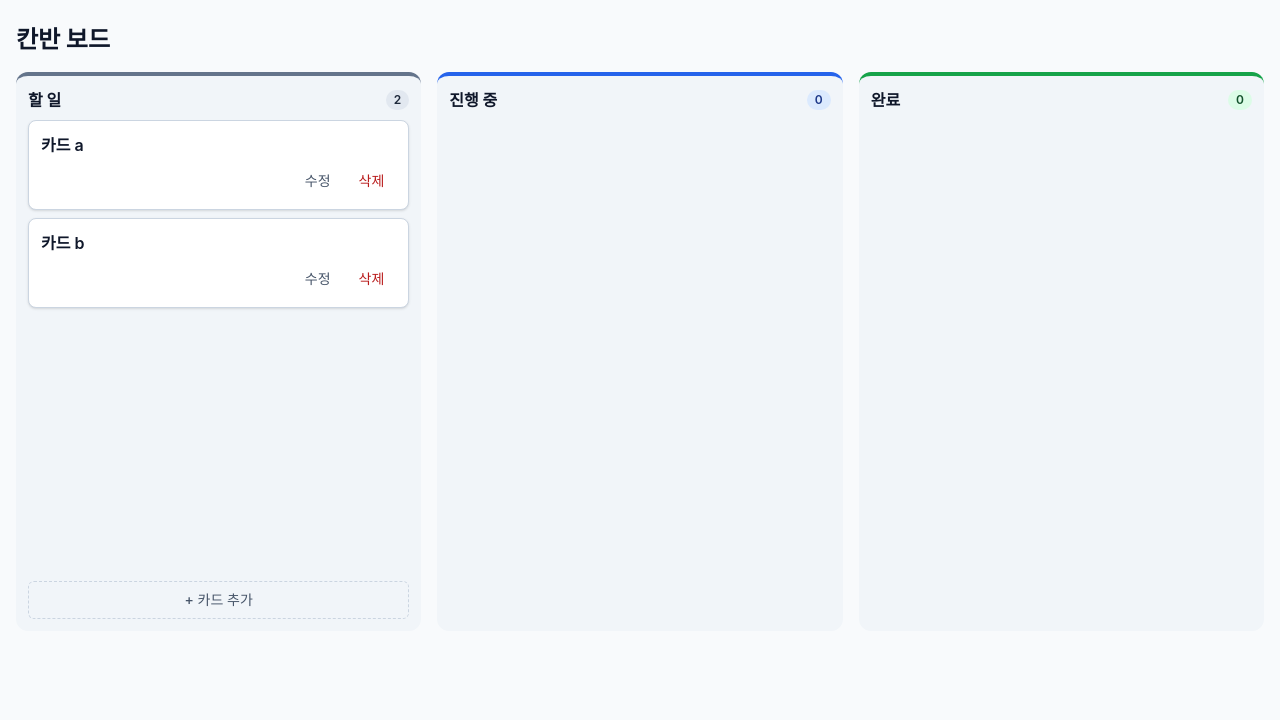
Test: 삭제 확인 (T-019) › 확인하면 카드를 지우고 카드 수가 1 줄어든다 (FR-8)
Click the button with aria-label "'카드 a' 삭제" at (372, 181), box [347,165,396,197]
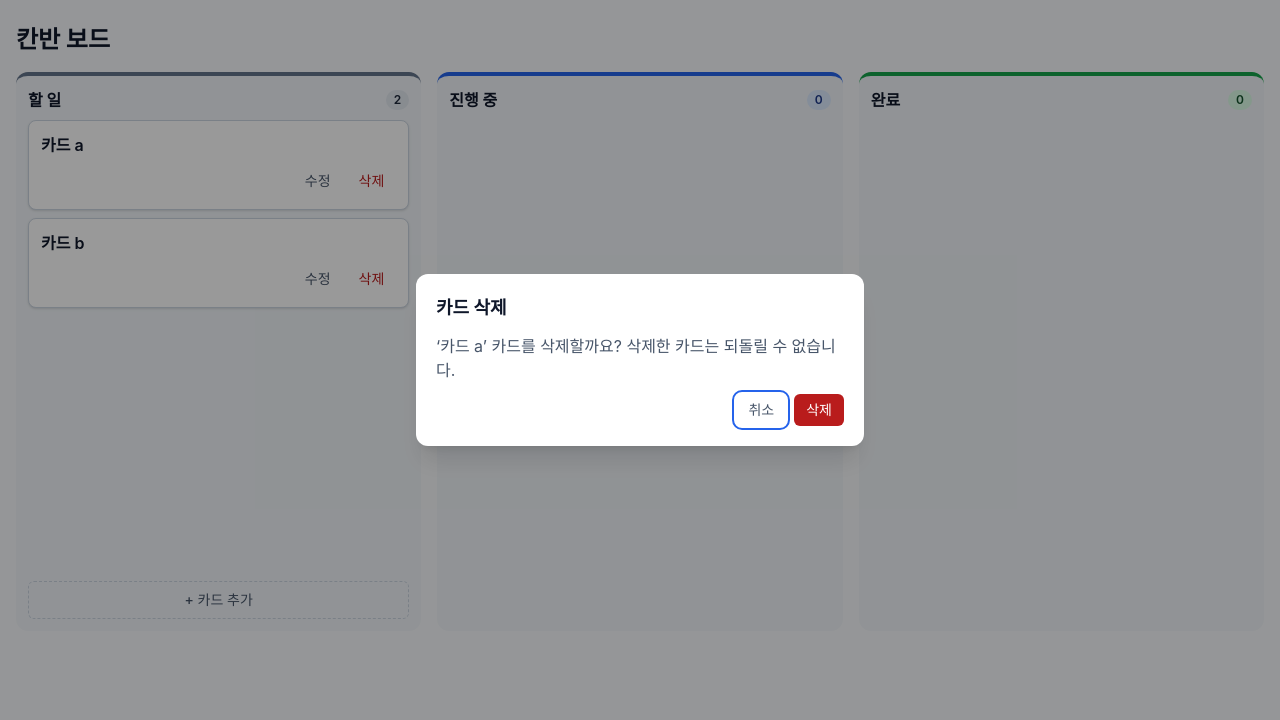
Click the button "삭제" at (819, 410), box [794,394,844,426]
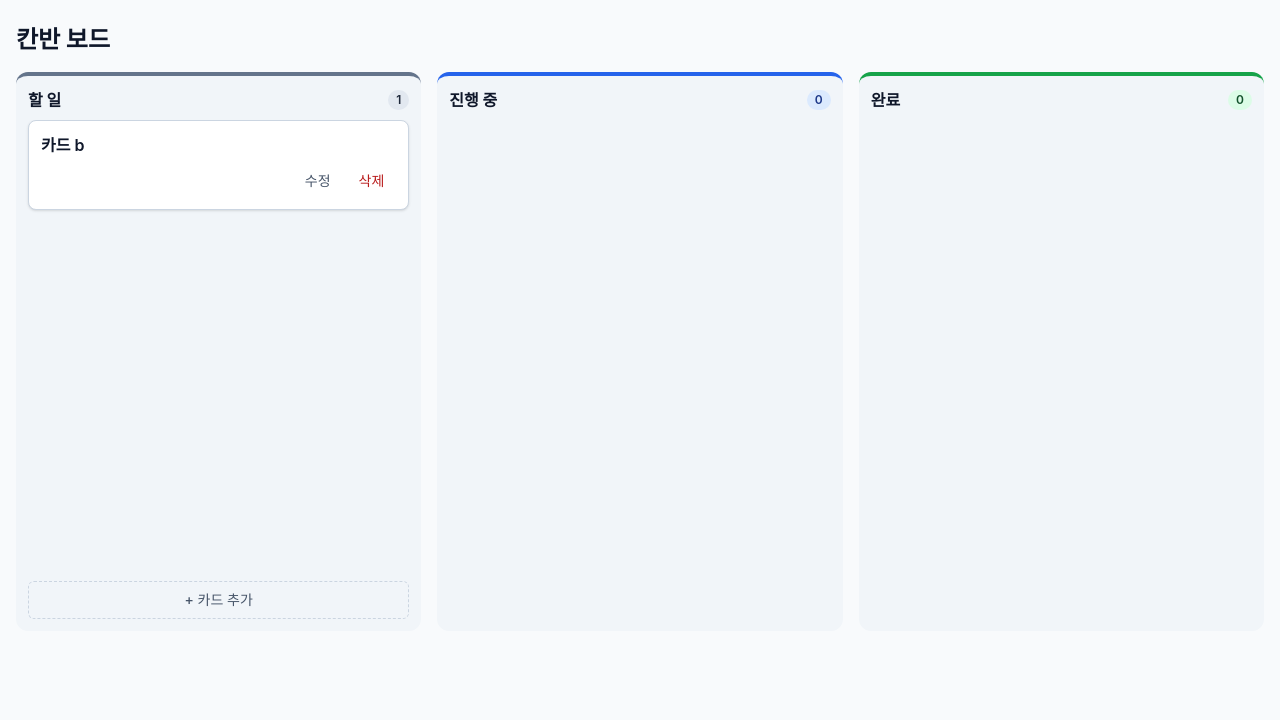
Result: the element with test id "card-a" is gone
